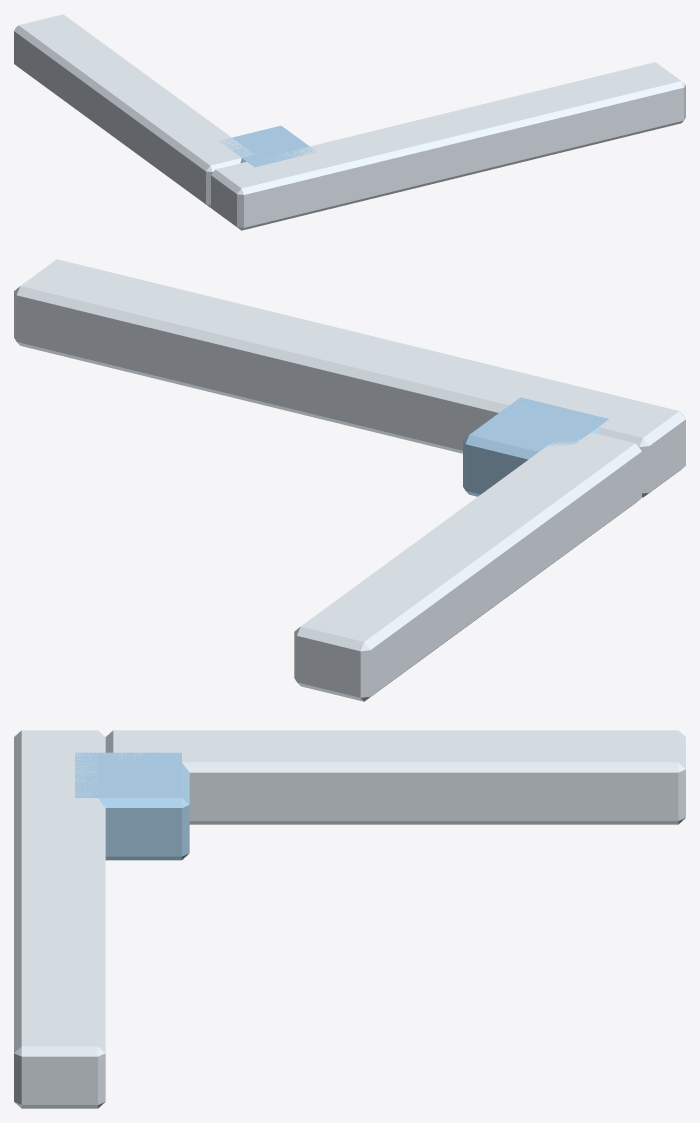
File: Shore_InnerCorner_v001.fbx
3 renders of one model, top to bottom at view 1: azimuth 30°, elevation 25°; view 2: azimuth 150°, elevation 25°; view 3: azimuth 270°, elevation 25°, orthographic. The views are drawn at different scales.
Parts seen in each view (by area): view 1: ShoreLip, ShoreLip.001, InnerFill; view 2: ShoreLip, ShoreLip.001, InnerFill; view 3: ShoreLip.001, ShoreLip, InnerFill.
Boxes of the visible parts, box(x1,y1,x2,y2) form: ShoreLip: box(211, 62, 685, 230); ShoreLip.001: box(14, 14, 254, 207); InnerFill: box(219, 125, 315, 167); ShoreLip: box(14, 259, 685, 497); ShoreLip.001: box(294, 432, 641, 701); InnerFill: box(463, 397, 608, 496); ShoreLip.001: box(105, 730, 685, 824); ShoreLip: box(14, 730, 105, 1108); InnerFill: box(75, 752, 189, 860).
Bounding box in the file's own units: 100 × 9 × 88.
